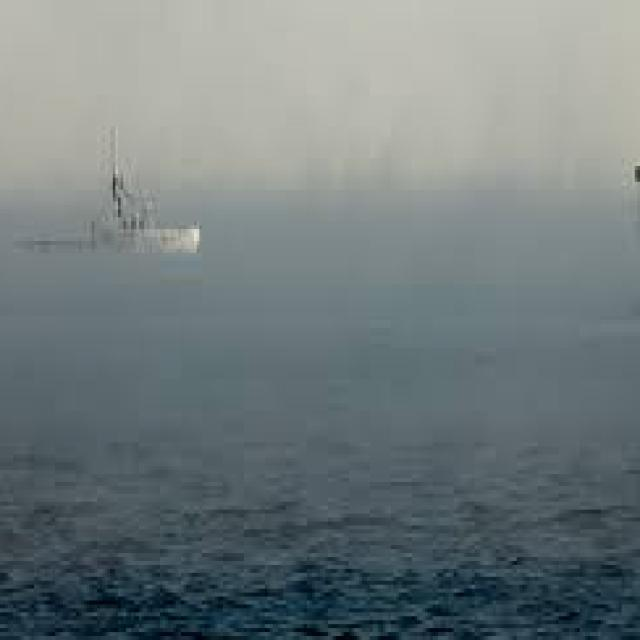passenger ship: (0, 114, 207, 264)
